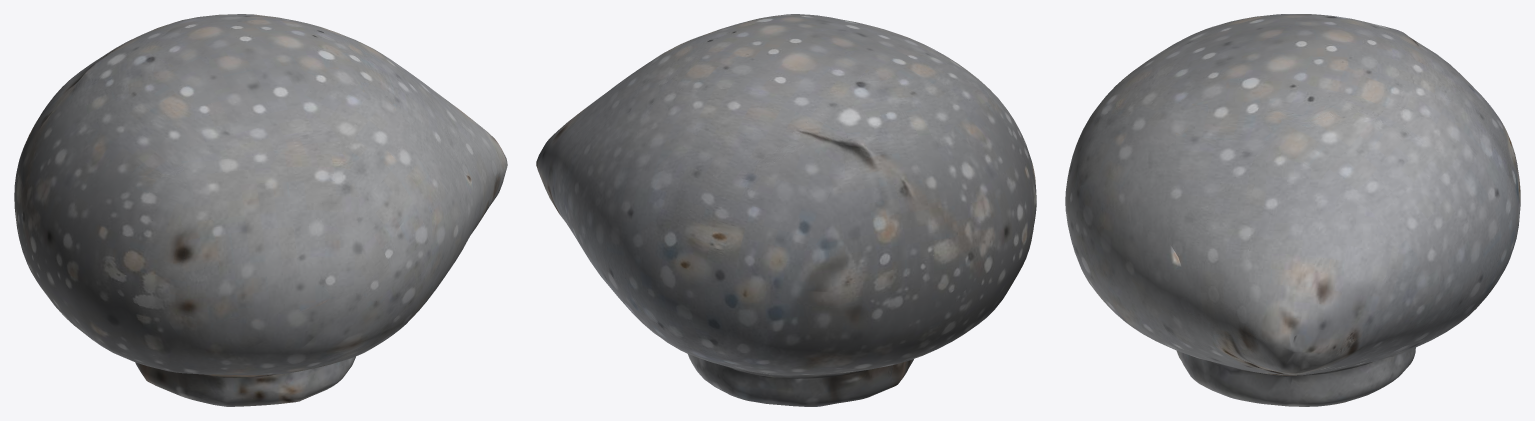
The model's file is rock-5.glb.
3 renders of one model, left to right at view 1: azimuth 30°, elevation 25°; view 2: azimuth 150°, elevation 25°; view 3: azimuth 270°, elevation 25°, orthographic.
Parts seen in each view (by area): view 1: Mesh_0; view 2: Mesh_0; view 3: Mesh_0.
Boxes of the visible parts, bbox=[...] form: Mesh_0: bbox=[14, 14, 507, 406]; Mesh_0: bbox=[536, 14, 1036, 406]; Mesh_0: bbox=[1065, 14, 1520, 406].
Bounding box in the file's own units: 2 × 1.34 × 1.7.
Materials: 1 (1 with a texture image).
